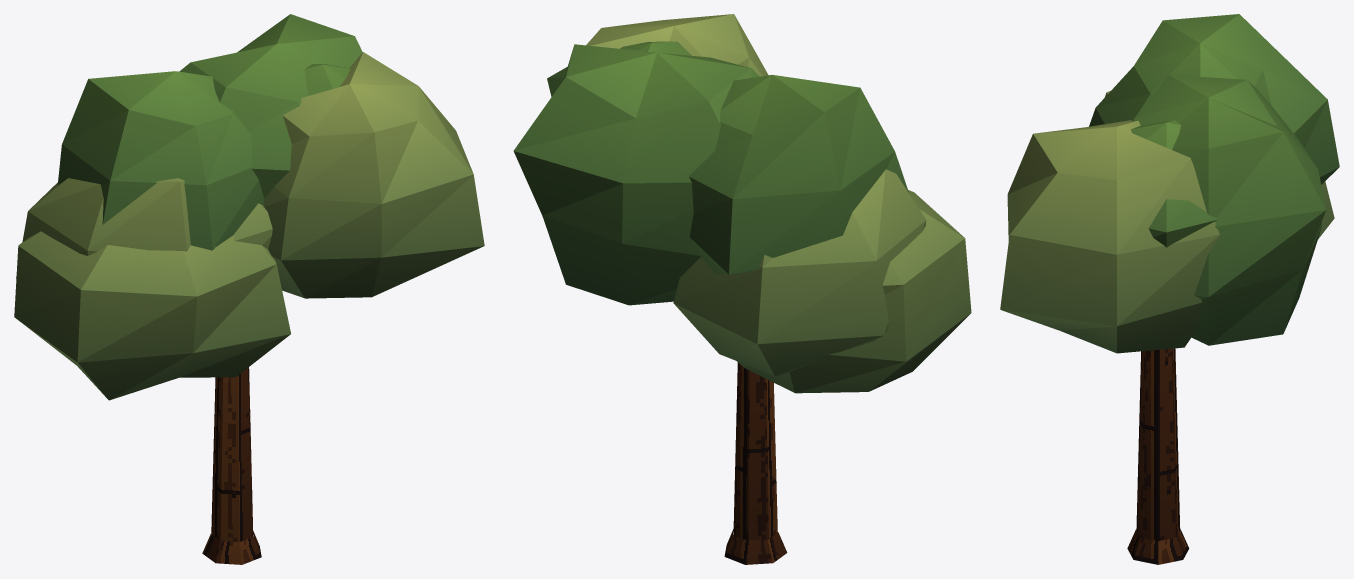
The model's file is oak_1_lowpoly.glb.
3 views of the same model, side by side, from view 1: azimuth 30°, elevation 25°; view 2: azimuth 150°, elevation 25°; view 3: azimuth 270°, elevation 25° (orthographic). The views are drawn at different scales.
Parts seen in each view (by area): view 1: oak_1_lowpoly; view 2: oak_1_lowpoly; view 3: oak_1_lowpoly.
Part boxes in pixels (<box>): oak_1_lowpoly: <box>14,14,484,564</box>; oak_1_lowpoly: <box>513,14,971,564</box>; oak_1_lowpoly: <box>1000,14,1339,564</box>.
Bounding box in the file's own units: 5.31 × 6.12 × 3.85.
Materials: 2 (1 with a texture image).
